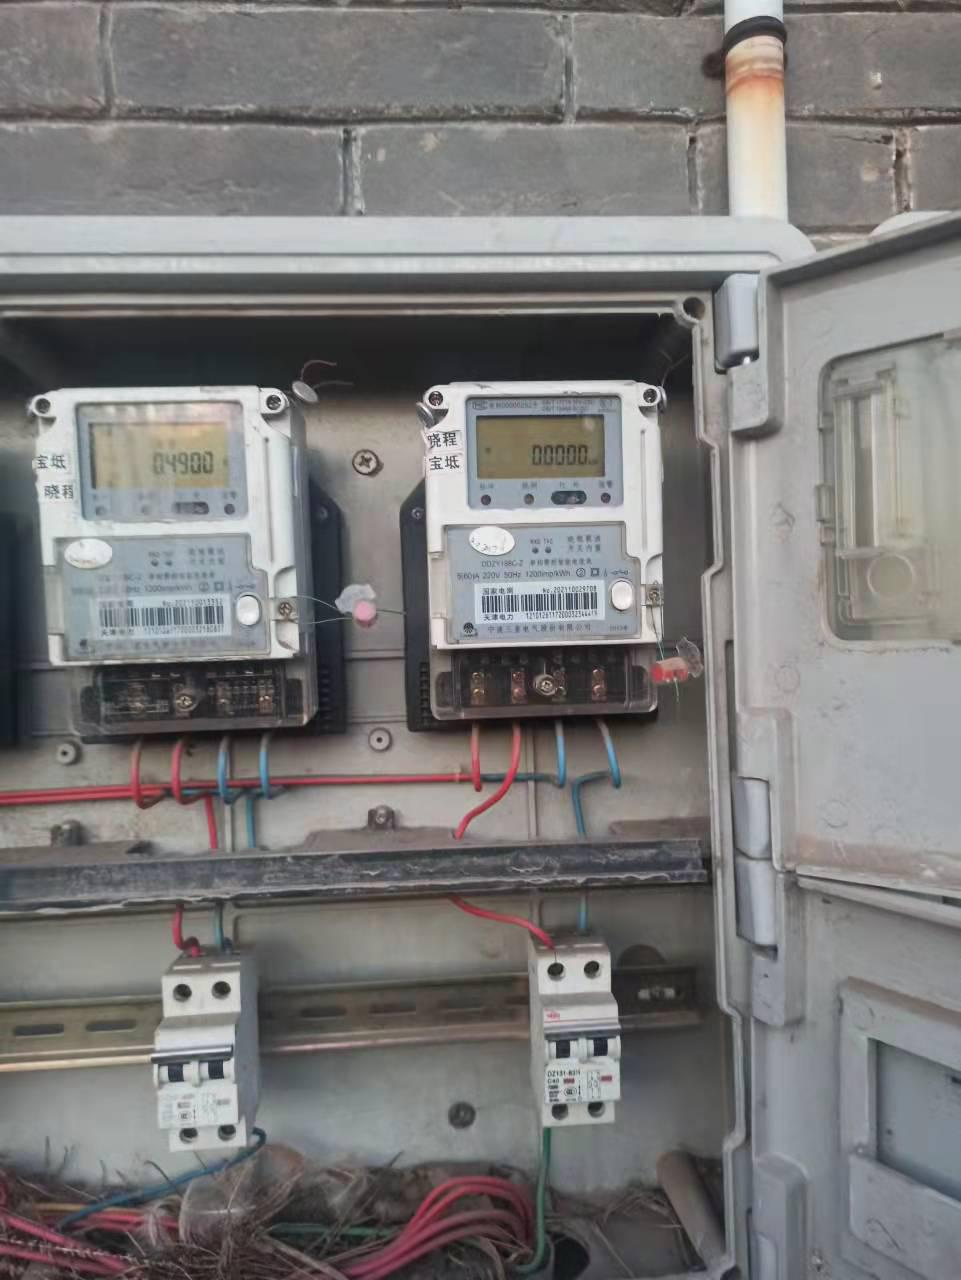digital: (39, 383, 298, 666), (429, 383, 661, 648)
